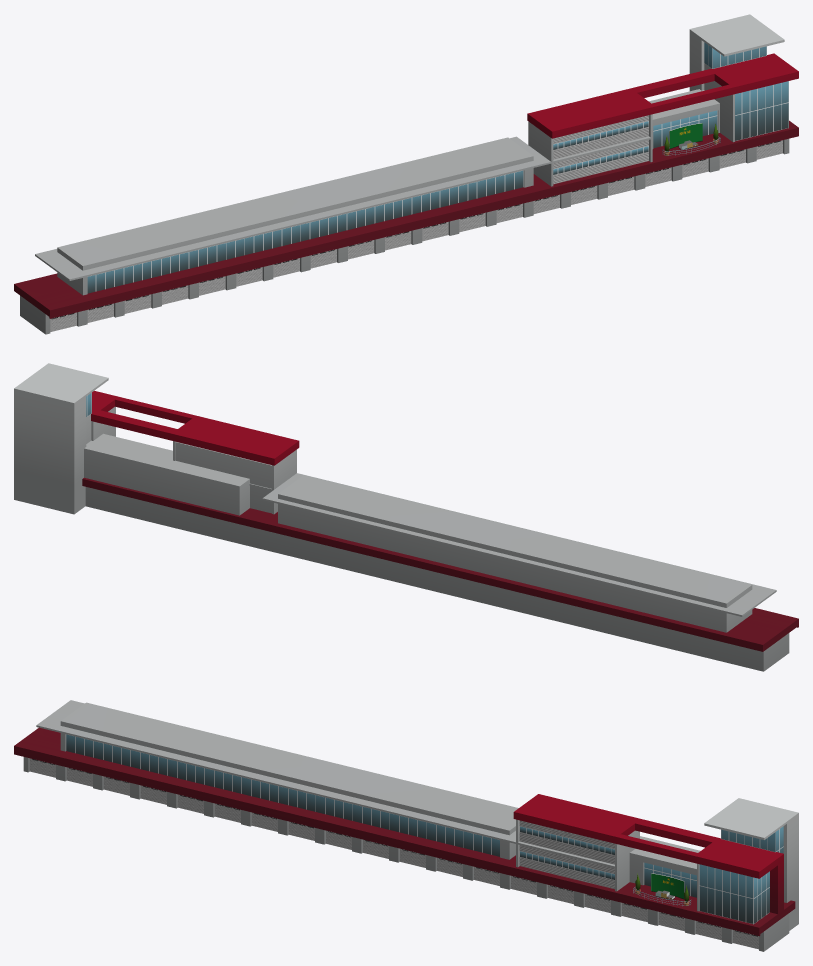
File: portimao_garages.FBX
3 views of the same model, one above another, from view 1: azimuth 30°, elevation 25°; view 2: azimuth 150°, elevation 25°; view 3: azimuth 330°, elevation 25° (orthographic).
Parts seen in each view (by area): view 1: portimao_garages, PODIUM; view 2: portimao_garages; view 3: portimao_garages, PODIUM.
Boxes of the visible parts, x1,y1,x2,y2 form: portimao_garages: [14, 14, 798, 334]; PODIUM: [662, 123, 720, 155]; portimao_garages: [14, 363, 798, 671]; portimao_garages: [14, 700, 798, 951]; PODIUM: [633, 873, 690, 906].
Bounding box in the file's own units: 5314 × 760 × 545.
